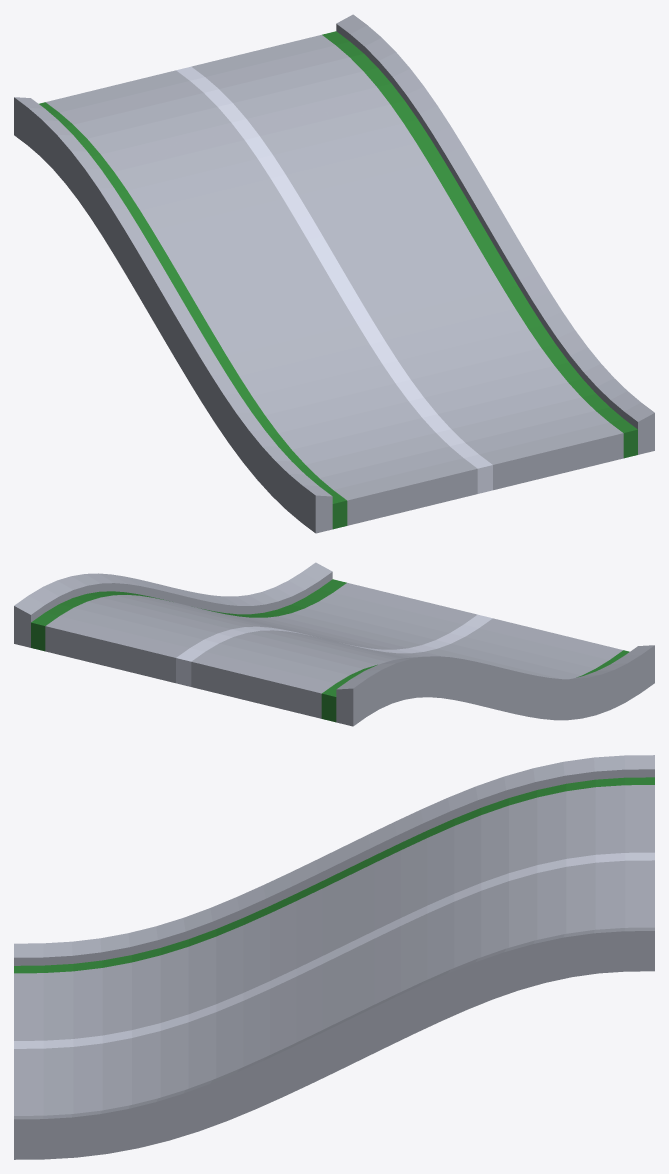
File: basic_up.glb
3 views of the same model, one above another, from view 1: azimuth 30°, elevation 25°; view 2: azimuth 150°, elevation 25°; view 3: azimuth 270°, elevation 25° (orthographic). The views are drawn at different scales.
Parts seen in each view (by area): view 1: base_up; view 2: base_up; view 3: base_up.
Part boxes in pixels (bbox=[...]): base_up: bbox=[14, 14, 654, 533]; base_up: bbox=[14, 562, 654, 726]; base_up: bbox=[14, 755, 654, 1159].
Size of the model in its own units: 14 by 8.5 by 21.57.
